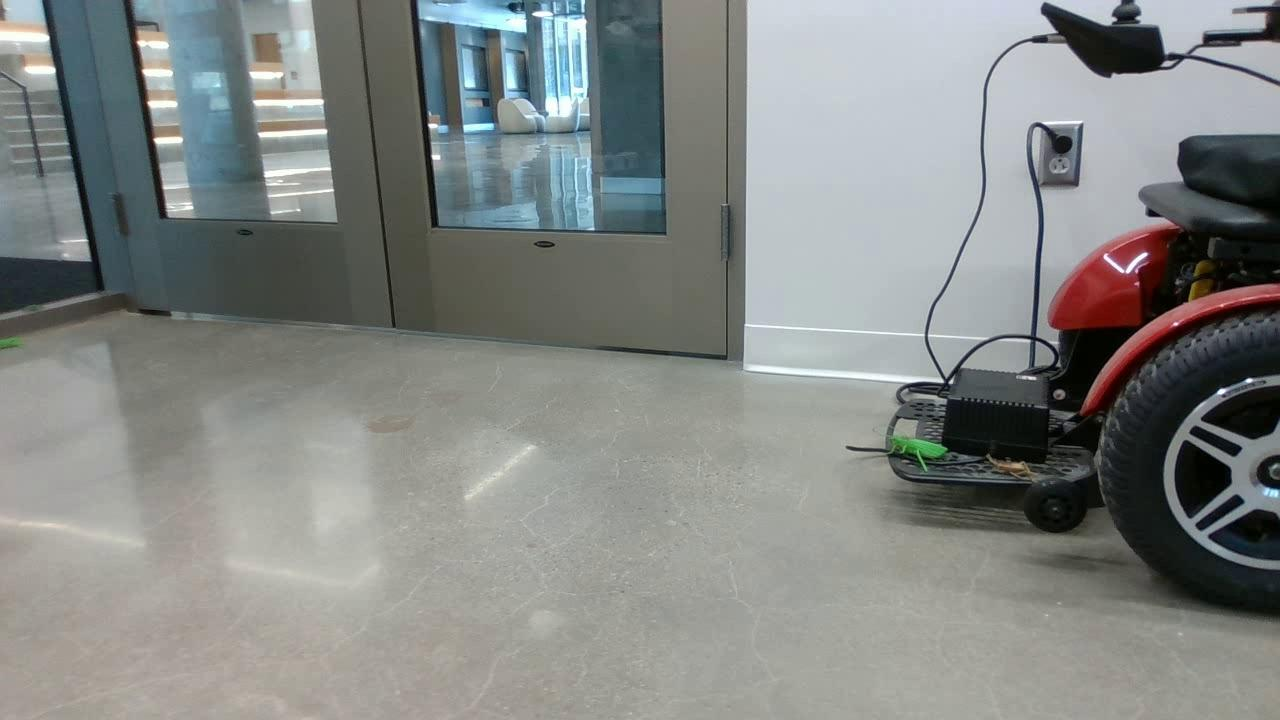grasshopper: (883, 433, 956, 473)
